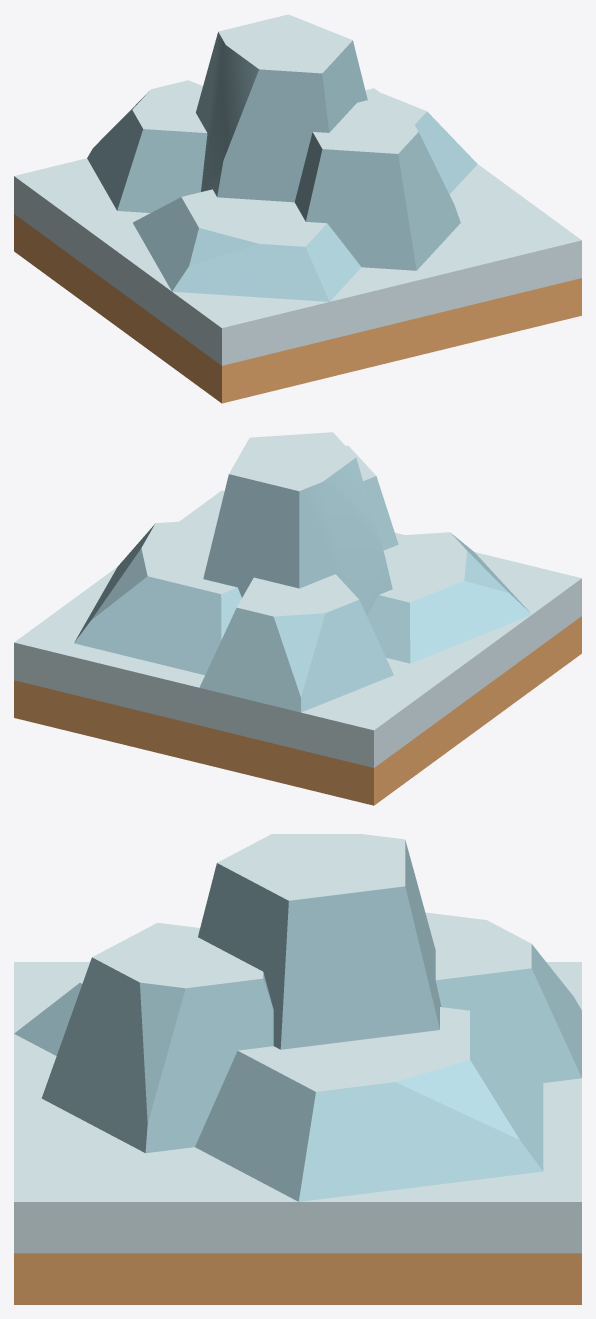
The model's file is snow_tile_hill.fbx.
The picture shows the model from 3 angles, top to bottom: view 1: azimuth 30°, elevation 25°; view 2: azimuth 150°, elevation 25°; view 3: azimuth 270°, elevation 25°; orthographic projection. The views are drawn at different scales.
Parts seen in each view (by area): view 1: rocks, snow_tile_hill; view 2: rocks, snow_tile_hill; view 3: rocks, snow_tile_hill.
Boxes of the visible parts, box(x1,y1,x2,y2) form: rocks: box(87, 14, 477, 301); snow_tile_hill: box(14, 88, 581, 403); rocks: box(74, 432, 531, 712); snow_tile_hill: box(14, 490, 581, 805); rocks: box(14, 834, 581, 1201); snow_tile_hill: box(14, 962, 581, 1304).
Bounding box in the file's own units: 10 × 6.19 × 10.
